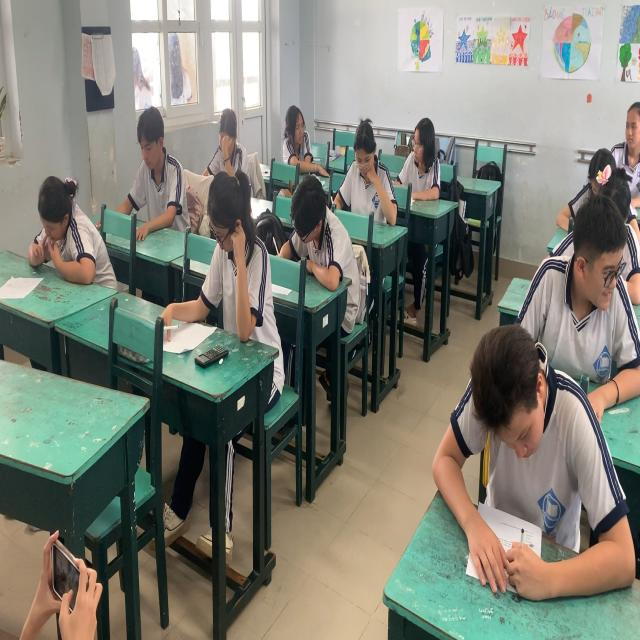cheating: (520, 200, 640, 362), (391, 111, 453, 220), (266, 86, 321, 186)
not_cheating: (421, 300, 627, 604), (188, 159, 272, 406), (32, 150, 118, 333), (553, 102, 638, 268), (270, 173, 354, 339), (120, 109, 202, 268), (563, 46, 640, 190), (331, 128, 397, 284), (195, 91, 244, 187)
